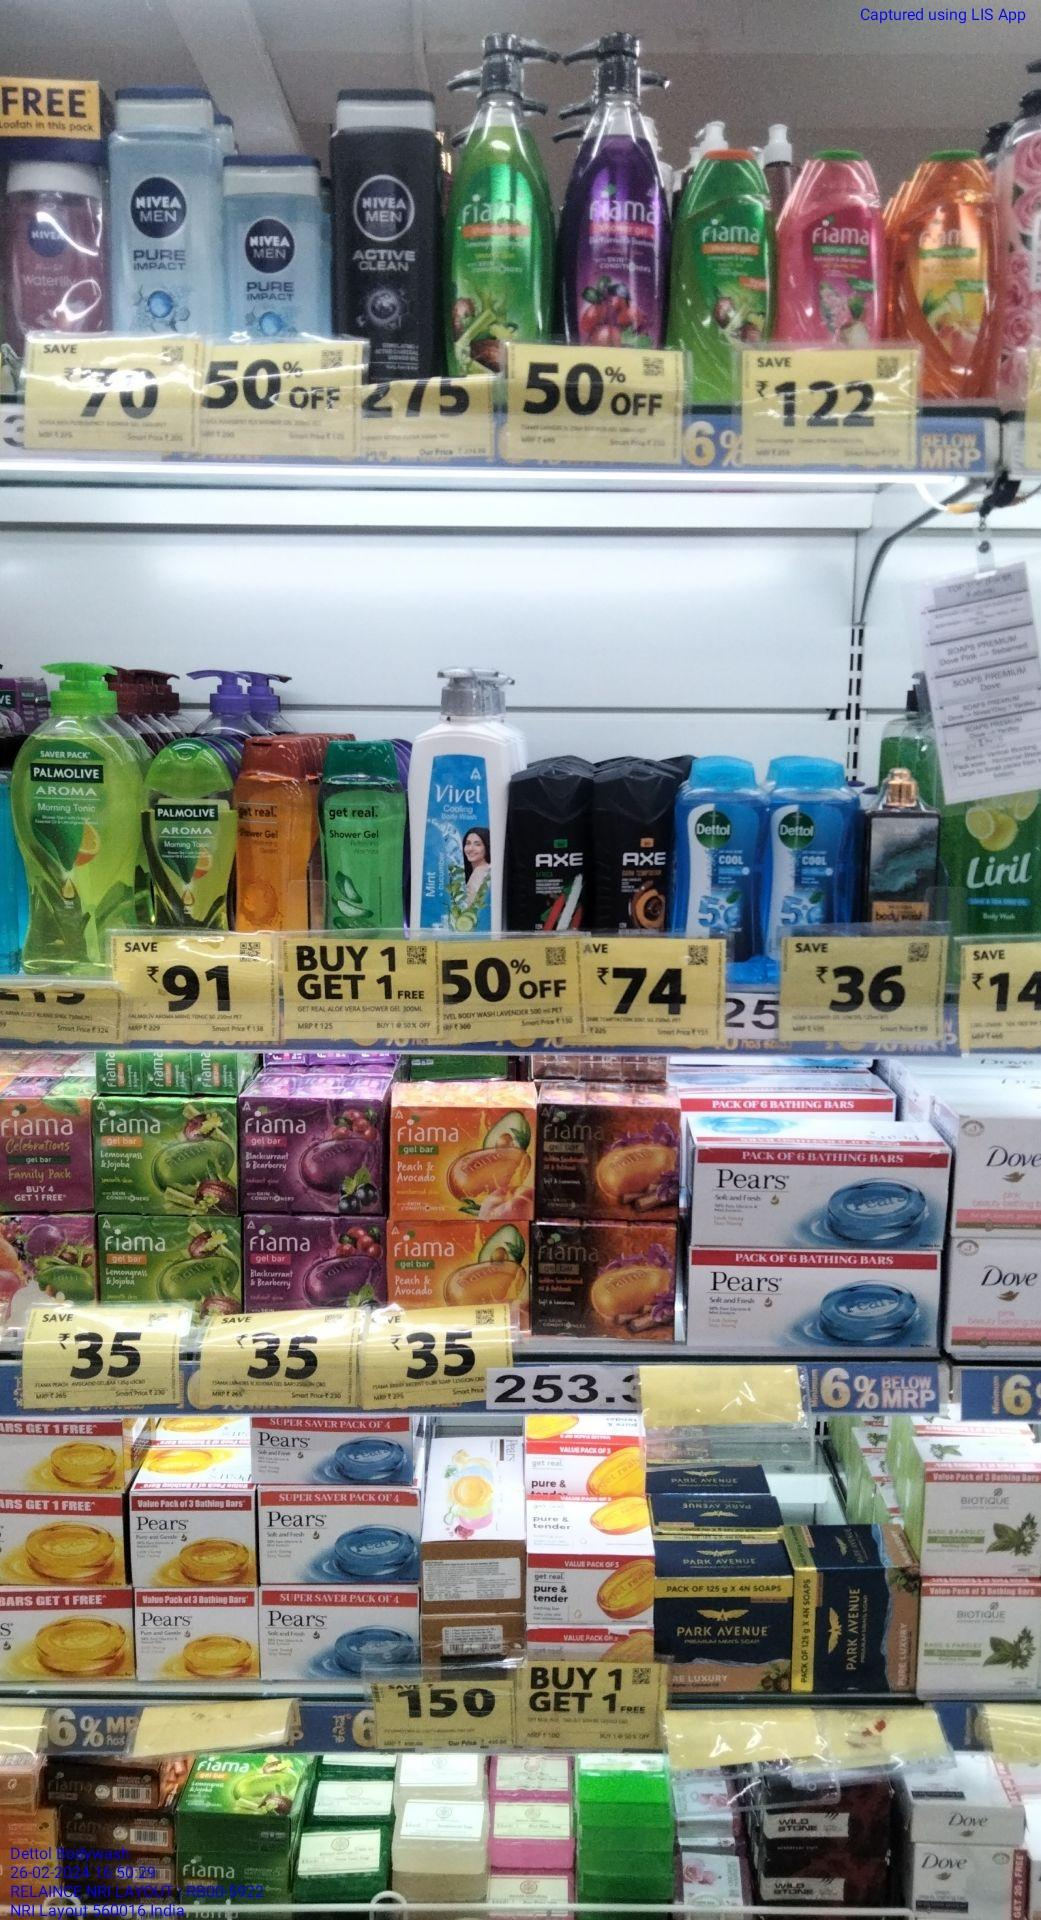Fiama_Shower_Gel_Patchouli_and_Macadamia_250ML: (778, 150, 882, 360)
Fiama_Shower_Gel_Peach_and_Avocado_250ML: (896, 149, 1008, 397)
Get_Real_Shower_Gel_Moisturising_Glycerin_300ML: (235, 745, 313, 927)
Palmolive_Aroma_Morning_Tonic_Shower_Gel_250ML: (144, 745, 235, 932)
